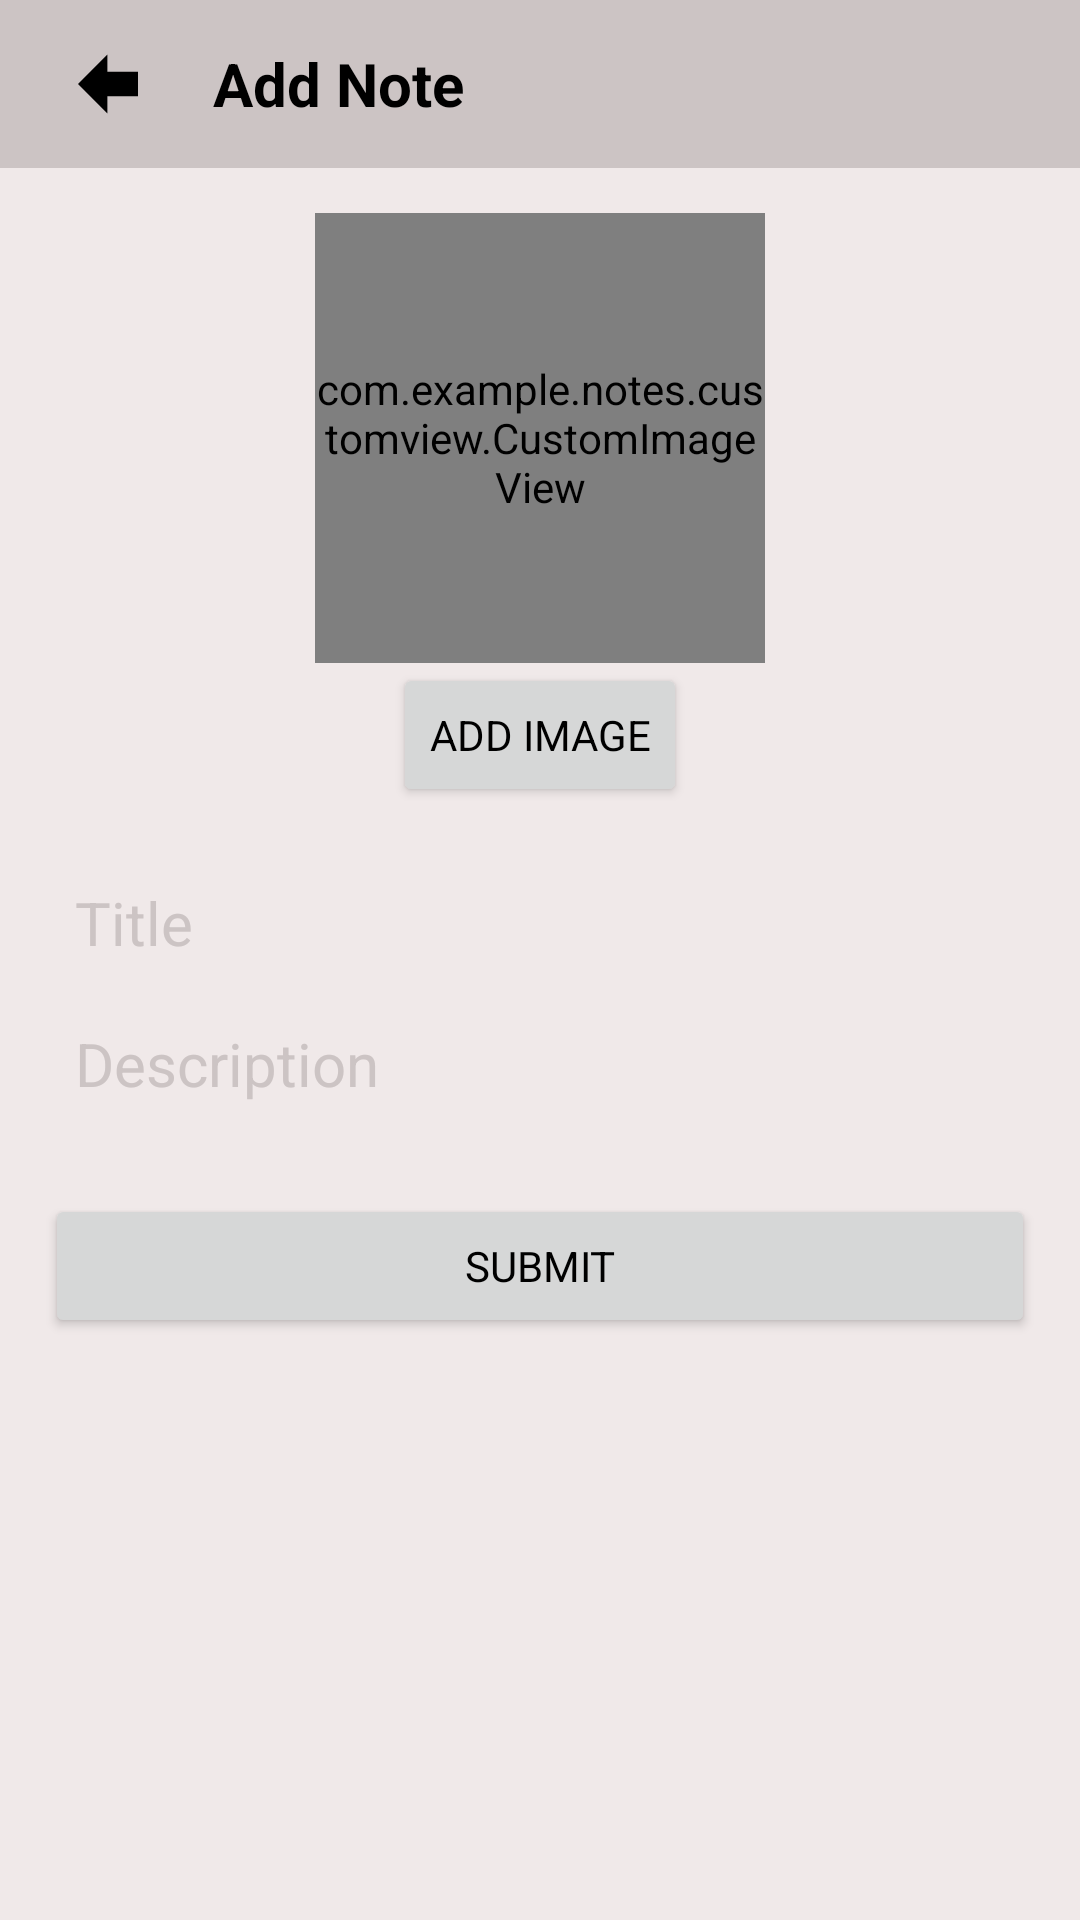

Icons on this 1080x1920 Android screen, each with the point to tap as (x=x, y=y):
back: (x=108, y=84)
